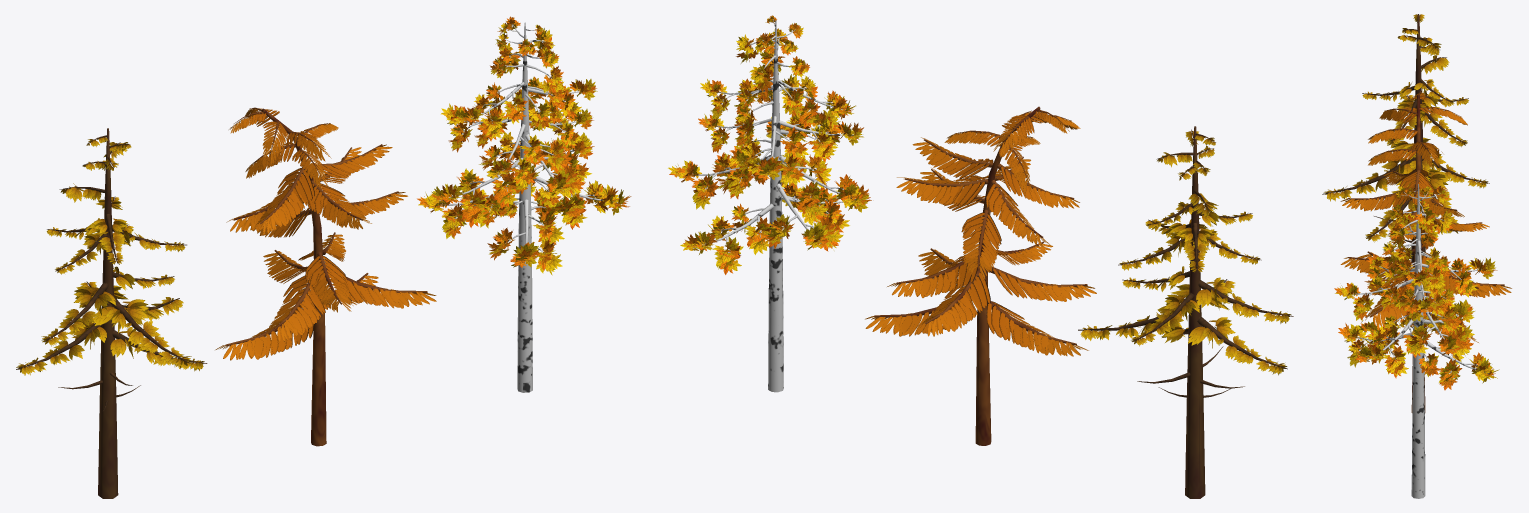
File: nature-autumn-trees.glb
3 renders of one model, left to right at view 1: azimuth 30°, elevation 25°; view 2: azimuth 150°, elevation 25°; view 3: azimuth 270°, elevation 25°, orthographic. The views are drawn at different scales.
Parts seen in each view (by area): view 1: Tree1, tree2, tree3; view 2: Tree1, tree2, tree3; view 3: Tree1, tree2, tree3.
Boxes of the visible parts, x1,y1,x2,y2 form: Tree1: (417, 16, 631, 392); tree2: (215, 107, 436, 446); tree3: (16, 128, 207, 498); Tree1: (668, 15, 871, 392); tree2: (865, 106, 1096, 445); tree3: (1078, 126, 1293, 498); Tree1: (1334, 184, 1499, 498); tree2: (1340, 91, 1511, 412); tree3: (1322, 14, 1489, 328).
Bounding box in the file's own units: 6.85 × 4.05 × 2.24.
3 materials, 3 textured.
